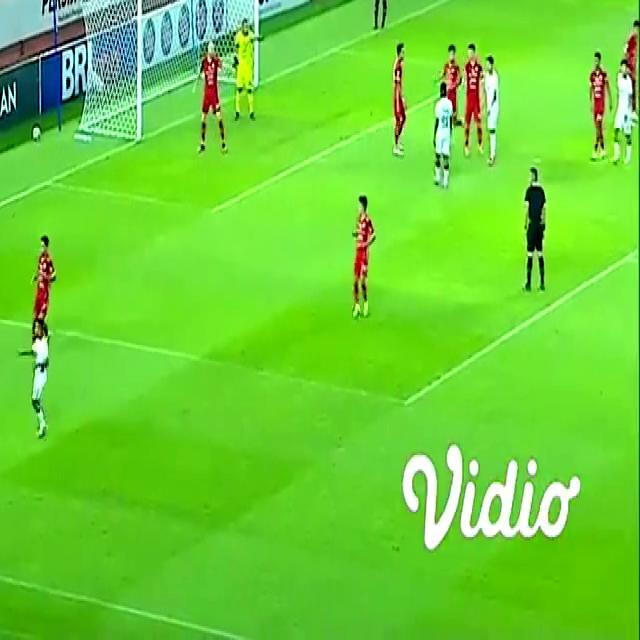goalkeeper: (233, 10, 263, 125)
referee: (513, 157, 561, 303)
soccer-player: (342, 188, 385, 330), (20, 230, 65, 350), (582, 41, 624, 168), (423, 81, 464, 193), (384, 33, 418, 162), (195, 34, 229, 162), (482, 46, 506, 170)
